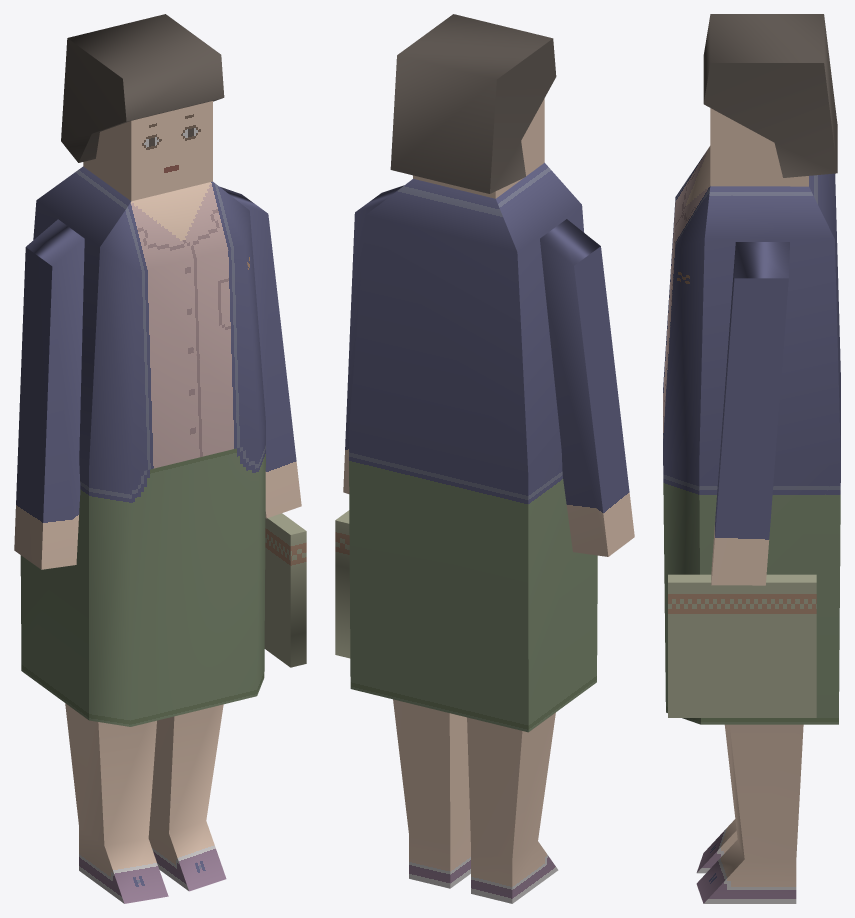
File: 0209_Shopper.glb
3 renders of one model, left to right at view 1: azimuth 30°, elevation 25°; view 2: azimuth 150°, elevation 25°; view 3: azimuth 270°, elevation 25°, orthographic. The views are drawn at different scales.
Visible parts, largest first — view 1: part_0; view 2: part_0; view 3: part_0.
Part boxes in pixels (<box>): part_0: <box>14,14,306,903</box>; part_0: <box>335,14,634,903</box>; part_0: <box>663,14,840,903</box>.
Bounding box in the file's own units: 0.4821 × 1.45 × 0.2782.
Materials: 1 (1 with a texture image).
